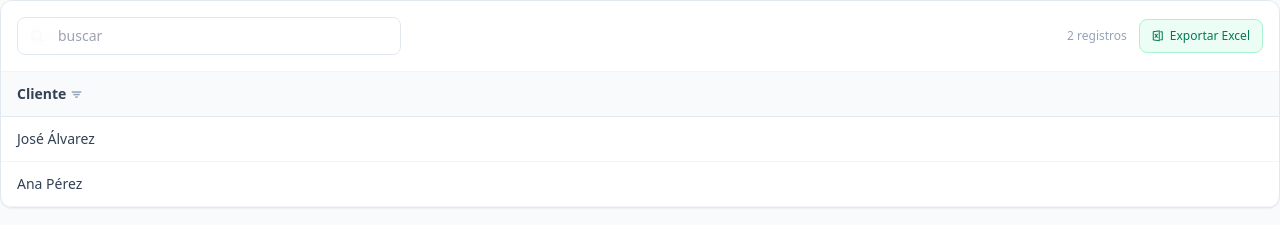
Test: DataTable buscador sin mayúsculas ni acentos › "jose" encuentra a José Álvarez
The image size is (1280, 225).
Type "jose" into the field with placeholder "buscar".
click(209, 36); type("jose")  # box [17, 17, 401, 55]
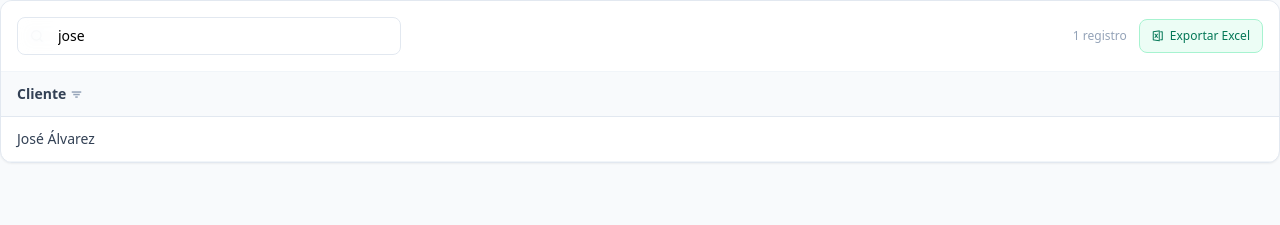
Expected: the text "José Álvarez" is shown, [1, 116, 1279, 162]
Now the text "Ana Pérez" is gone
